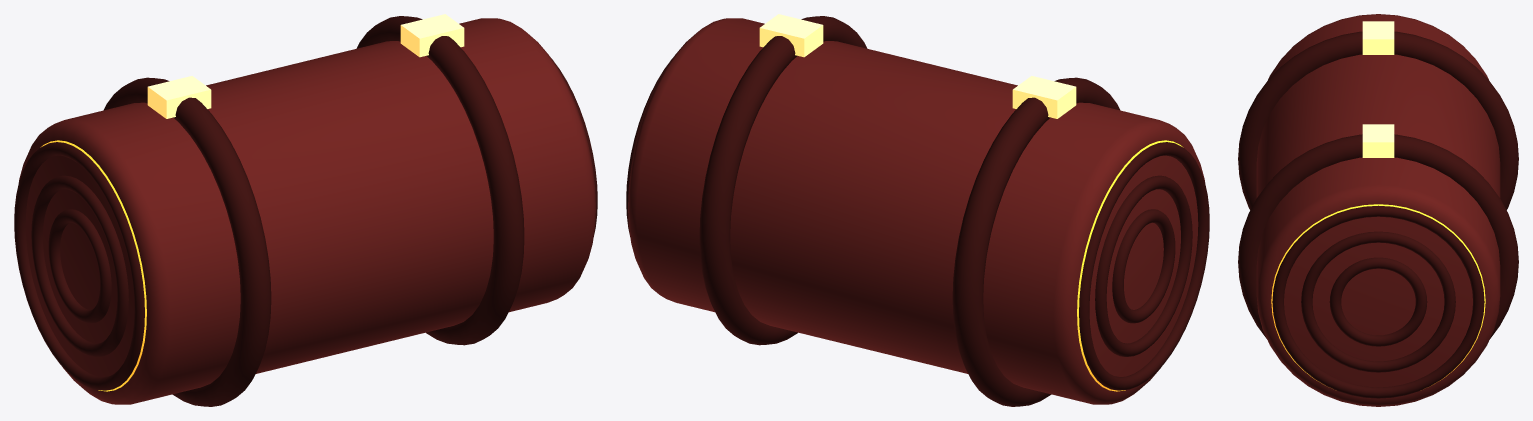
The model's file is leder_splitter.glb.
The picture shows the model from 3 angles, left to right: view 1: azimuth 30°, elevation 25°; view 2: azimuth 150°, elevation 25°; view 3: azimuth 270°, elevation 25°; orthographic projection. The views are drawn at different scales.
Visible parts, largest first — view 1: Cylinder, Torus.006, Torus.007, Torus, Torus.001, Torus.002, Cube.001, Cube, Torus.008; view 2: Cylinder, Torus.006, Torus.007, Torus, Torus.001, Torus.002, Cube.001, Cube, Torus.008; view 3: Cylinder, Torus.007, Torus.006, Torus.003, Torus.004, Torus.005, Cube, Cube.001, Torus.009.
Part boxes in pixels (left/top/right/bottom): Cylinder: left=18, top=18, right=595, bottom=404; Torus.006: left=103, top=77, right=271, bottom=406; Torus.007: left=356, top=16, right=524, bottom=345; Torus: left=14, top=142, right=144, bottom=390; Torus.001: left=31, top=175, right=128, bottom=356; Torus.002: left=48, top=209, right=111, bottom=323; Cube.001: left=400, top=14, right=464, bottom=57; Cube: left=147, top=76, right=211, bottom=118; Torus.008: left=40, top=140, right=146, bottom=391; Cylinder: left=628, top=18, right=1205, bottom=404; Torus.006: left=952, top=77, right=1120, bottom=406; Torus.007: left=699, top=16, right=867, bottom=345; Torus: left=1079, top=142, right=1209, bottom=390; Torus.001: left=1095, top=175, right=1192, bottom=356; Torus.002: left=1112, top=209, right=1175, bottom=323; Cube.001: left=759, top=14, right=823, bottom=57; Cube: left=1012, top=76, right=1076, bottom=118; Torus.008: left=1077, top=140, right=1183, bottom=391; Cylinder: left=1256, top=14, right=1500, bottom=406; Torus.007: left=1238, top=134, right=1518, bottom=338; Torus.006: left=1238, top=31, right=1518, bottom=209; Torus.003: left=1272, top=205, right=1484, bottom=398; Torus.004: left=1301, top=231, right=1455, bottom=372; Torus.005: left=1329, top=257, right=1427, bottom=346; Cube: left=1362, top=21, right=1394, bottom=54; Cube.001: left=1362, top=124, right=1394, bottom=157; Torus.009: left=1271, top=204, right=1485, bottom=385.
Size of the model in its own units: 0.31 by 0.197 by 0.196.
